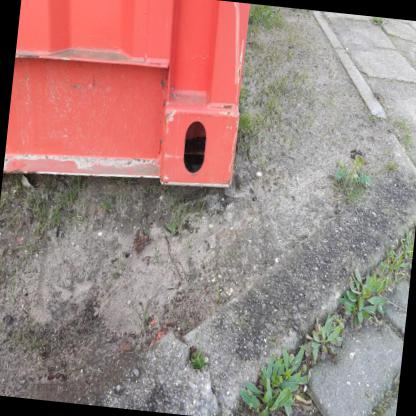CornerCasting: (154, 90, 244, 193)
